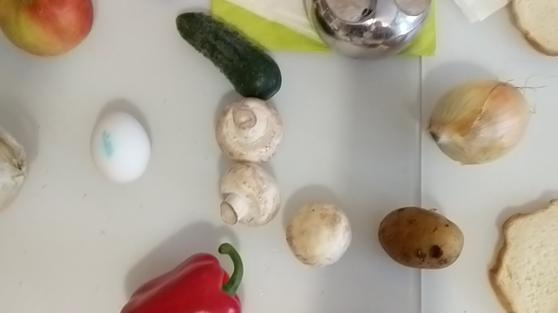champignon: (221, 94, 285, 166), (286, 202, 354, 266), (220, 163, 281, 224)
cucumber: (177, 10, 284, 99)
egg: (93, 109, 153, 184)
onion: (432, 74, 534, 169)
pepper: (115, 242, 243, 313)
potato: (381, 208, 468, 266)
white_bread: (492, 197, 558, 312), (508, 1, 557, 60)
